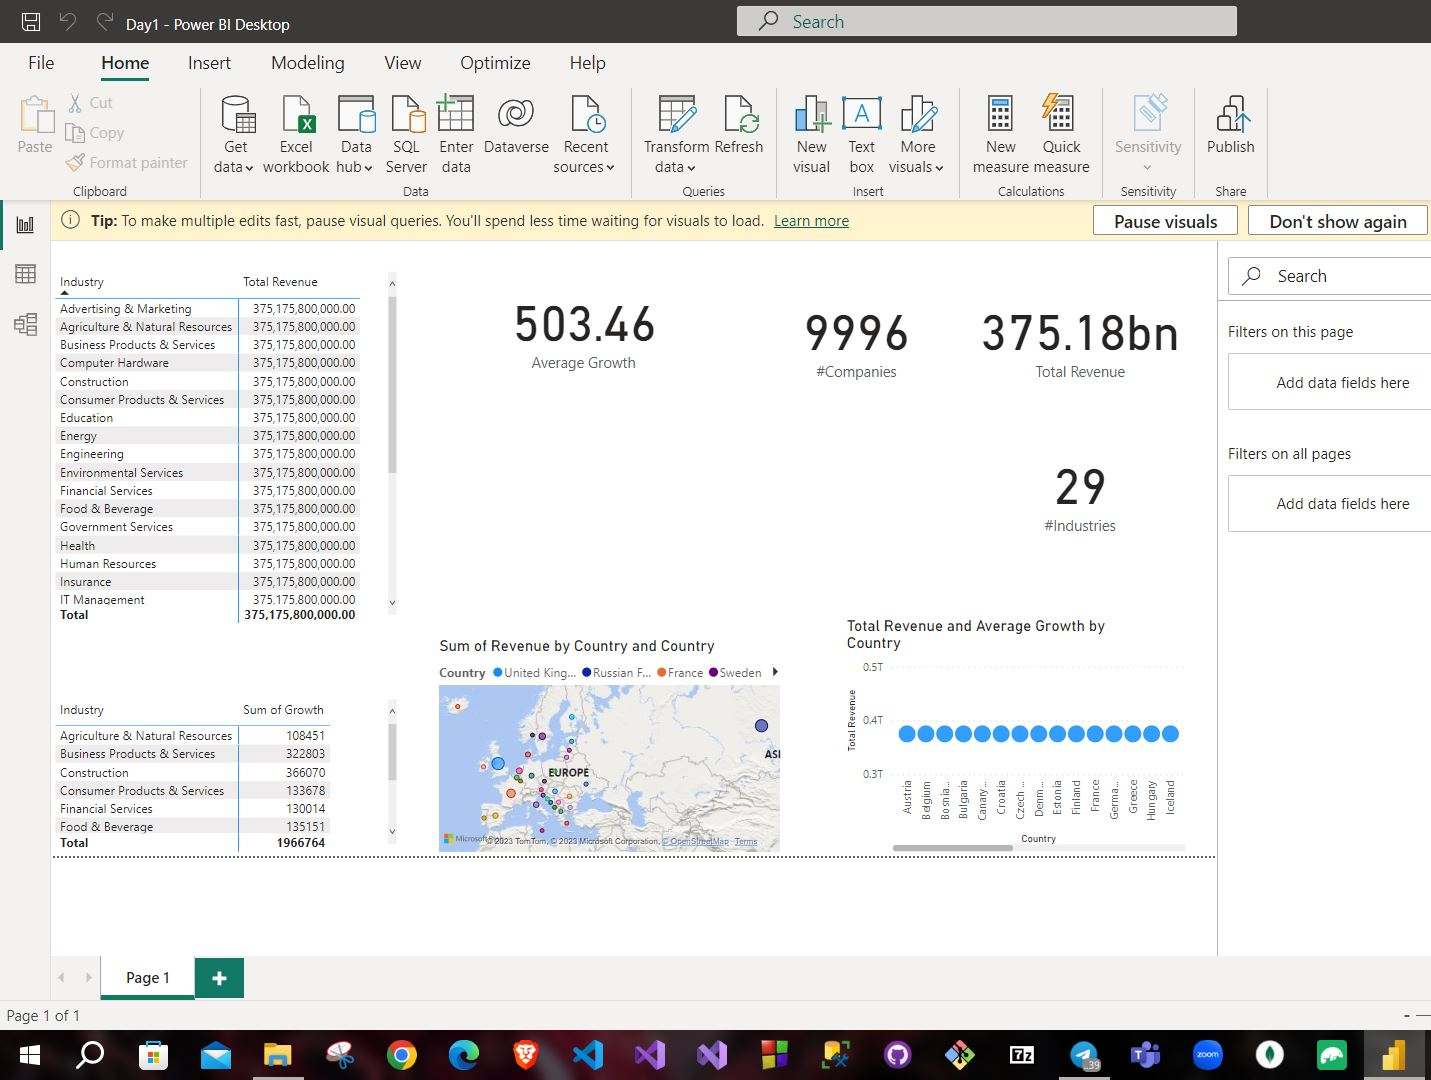

What the dashboard file says about the page in this screenshot:
{"tool":"powerbi","page":{"name":"Page 1","canvas":[1280,720],"ordinal":0},"visuals":[{"type":"card","fields":{"Values":["Europe.Average Growth"]},"box":[444.6,0,279.9,279.9],"z":1},{"type":"card","fields":{"Values":["Europe.#Companies"]},"box":[734.1,0,300.5,300.5],"z":2},{"type":"card","fields":{"Values":["Europe.#Industries"]},"box":[979.8,168.8,300.5,300.5],"z":3},{"type":"card","fields":{"Values":["Europe.Total Revenue"]},"box":[979.8,60.4,300.5,179.8],"z":4},{"type":"pivotTable","fields":{"Rows":["Europe.Industry"],"Values":["Europe.Total Revenue"]},"box":[0,74.1,384.2,395.2],"z":5},{"type":"map","fields":{"Category":["Europe.Country"],"Size":["Sum(Europe.Revenue)"],"Series":["Europe.Country"]},"box":[421.3,478.9,384.2,241.5],"z":6},{"type":"scatterChart","fields":{"X":["Europe.Country"],"Y":["Europe.Total Revenue"],"Size":["Europe.Average Growth"]},"box":[868.6,456.9,381.5,263.5],"z":7},{"type":"pivotTable","fields":{"Rows":["Europe.Industry"],"Values":["Sum(Europe.Growth)"]},"box":[0,543.4,384.2,177],"z":8}]}

Visuals, with their boxes on the page's 1280x720 design canvas (x1, y1, x2, y2). These are canvas units, not pixel positions in the 1431x1080 screenshot, which may show the page scaled, cropped or inside an application window:
card - Europe.Average Growth: x1=445 y1=0 x2=724 y2=280
card - Europe.#Companies: x1=734 y1=0 x2=1035 y2=300
card - Europe.#Industries: x1=980 y1=169 x2=1280 y2=469
card - Europe.Total Revenue: x1=980 y1=60 x2=1280 y2=240
pivotTable - Europe.Industry x Europe.Total Revenue: x1=0 y1=74 x2=384 y2=469
map - Europe.Country x Sum(Europe.Revenue): x1=421 y1=479 x2=806 y2=720
scatterChart - Europe.Country x Europe.Total Revenue: x1=869 y1=457 x2=1250 y2=720
pivotTable - Europe.Industry x Sum(Europe.Growth): x1=0 y1=543 x2=384 y2=720
